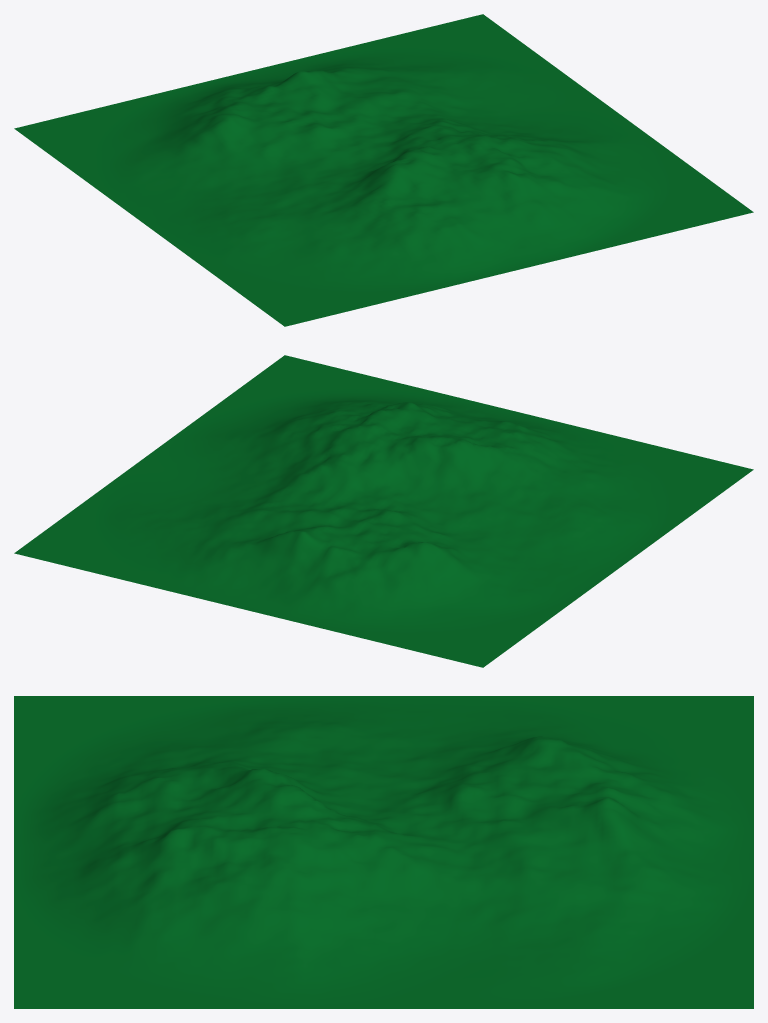
The model's file is main_island.glb.
3 views of the same model, one above another, from view 1: azimuth 30°, elevation 25°; view 2: azimuth 150°, elevation 25°; view 3: azimuth 270°, elevation 25° (orthographic). The views are drawn at different scales.
Visible parts, largest first — view 1: Landscape.002; view 2: Landscape.002; view 3: Landscape.002.
Part boxes in pixels (box(x1,y1,x2,y2)): Landscape.002: box(14, 14, 753, 326); Landscape.002: box(14, 355, 753, 667); Landscape.002: box(14, 696, 753, 1008).
Size of the model in its own units: 2 by 0.1848 by 2.
